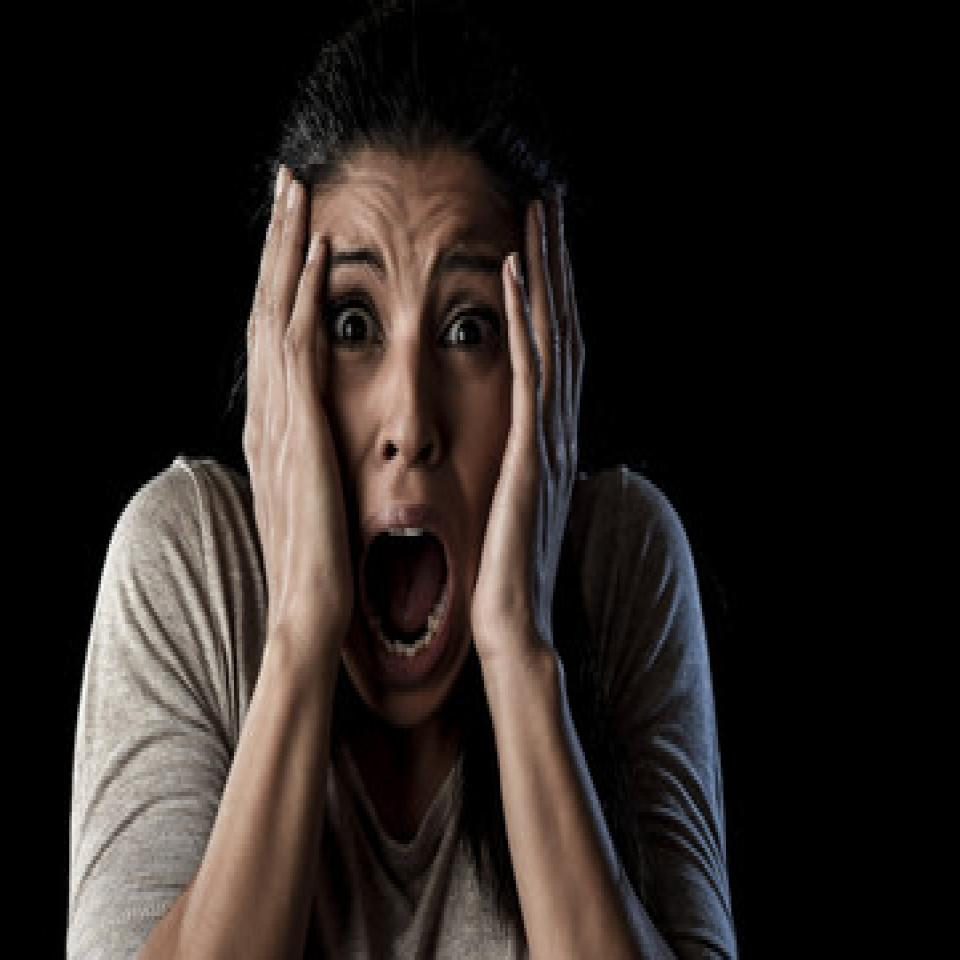Scared: (239, 171, 588, 714)
